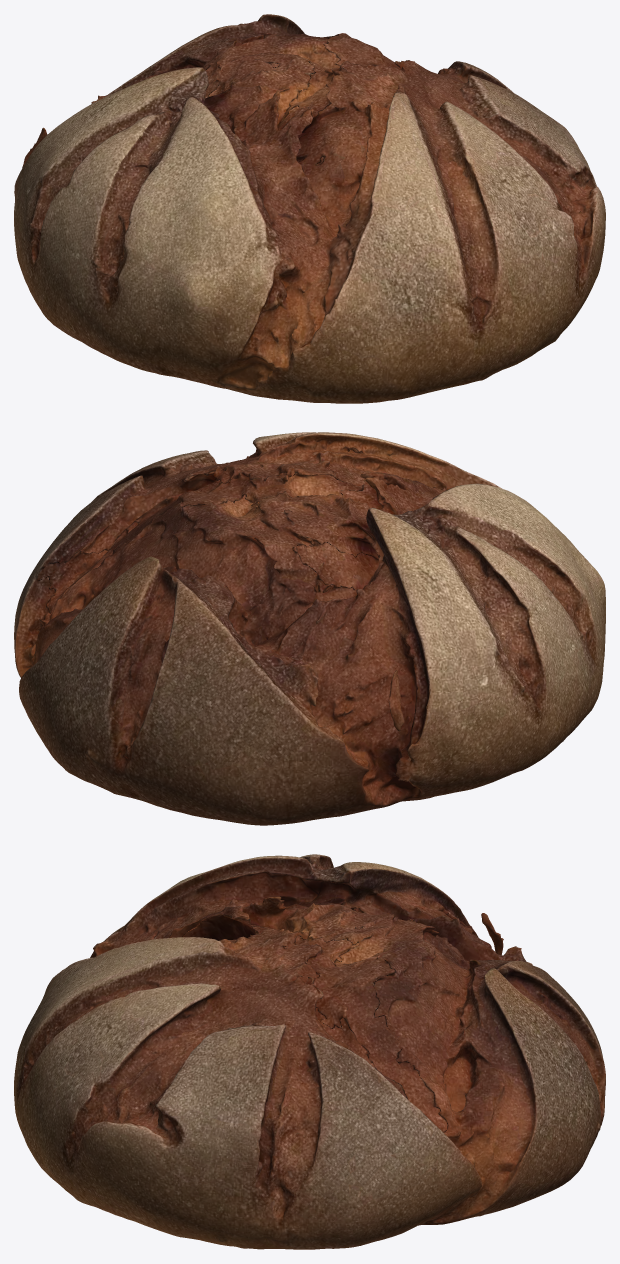
Rendered from brot.glb.
The picture shows the model from 3 angles, top to bottom: view 1: azimuth 30°, elevation 25°; view 2: azimuth 150°, elevation 25°; view 3: azimuth 270°, elevation 25°; orthographic projection. The views are drawn at different scales.
Parts seen in each view (by area): view 1: geometry_0; view 2: geometry_0; view 3: geometry_0.
Part boxes in pixels (box(x1,y1,x2,y2)): geometry_0: box(14, 14, 605, 403); geometry_0: box(14, 432, 605, 825); geometry_0: box(14, 854, 605, 1249).
Size of the model in its own units: 0.9832 by 0.4333 by 1.
Materials: 1 (1 with a texture image).
